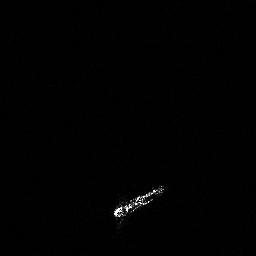ship: (110, 180, 168, 224)
